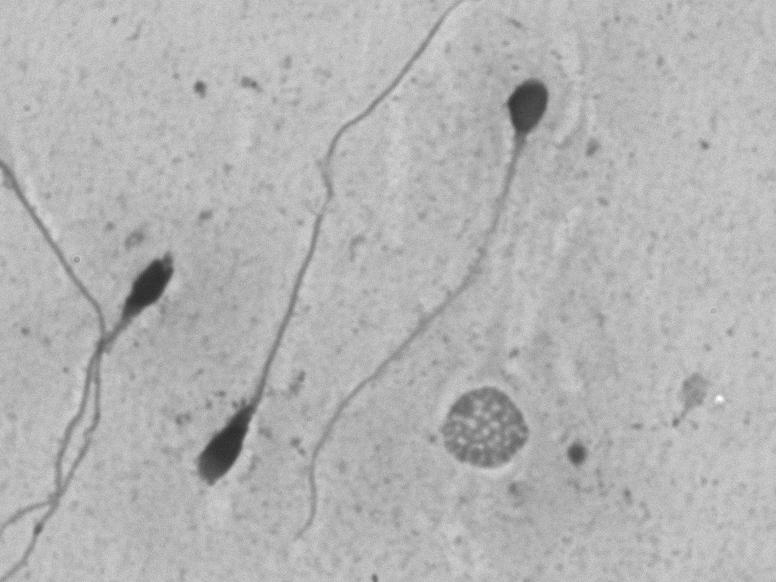Abnormal: (163, 8, 438, 511), (57, 213, 186, 496)
Normal: (258, 37, 575, 560)
